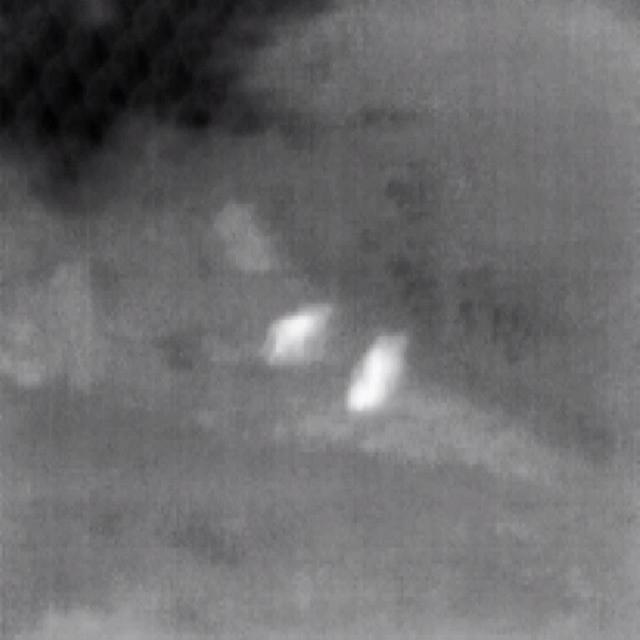cheetah: (346, 330, 410, 410), (263, 307, 332, 361)
